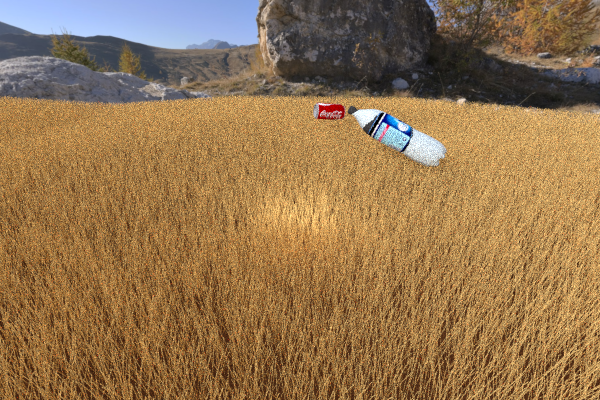bottle: (347, 105, 446, 167)
can: (313, 102, 345, 120)
